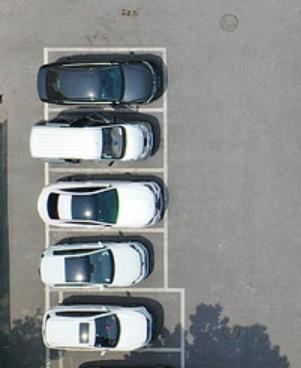car: (34, 177, 165, 232), (35, 56, 162, 111), (27, 115, 158, 165), (33, 239, 153, 289), (40, 303, 154, 355)
